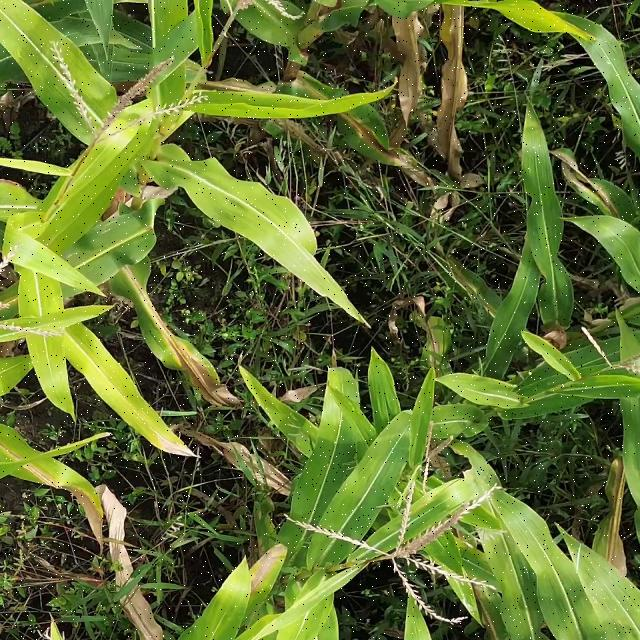northern-leaf-blight: (2, 447, 109, 530), (148, 312, 236, 404), (314, 93, 403, 161), (451, 268, 498, 321), (570, 168, 624, 212), (416, 480, 471, 518), (251, 549, 285, 598), (472, 592, 506, 640), (426, 328, 448, 369)
